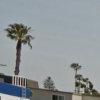Palm tree: (7, 14, 26, 85)
